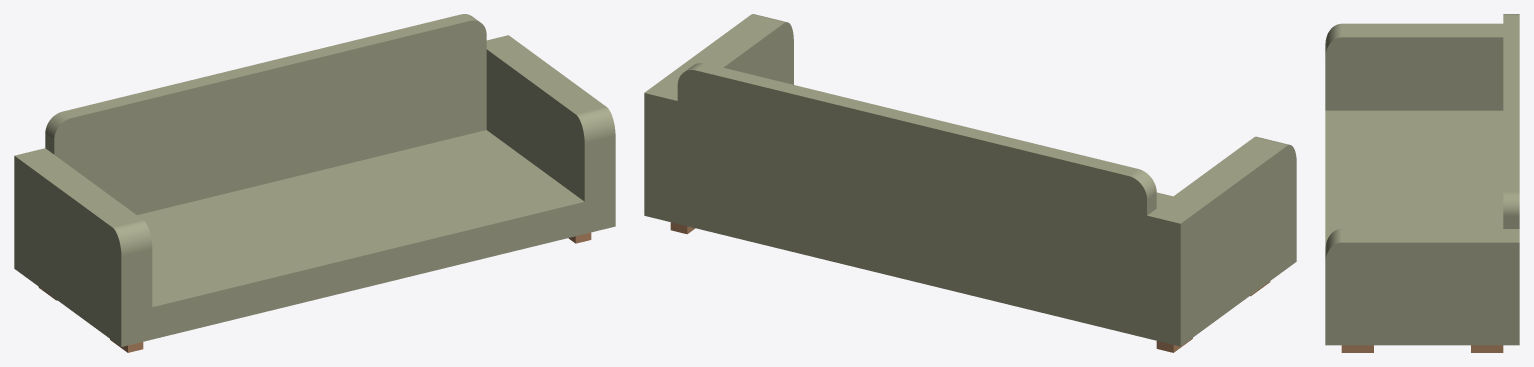
File: Couch.glb
3 renders of one model, left to right at view 1: azimuth 30°, elevation 25°; view 2: azimuth 150°, elevation 25°; view 3: azimuth 270°, elevation 25°, orthographic. The views are drawn at different scales.
Parts seen in each view (by area): view 1: Couch-col; view 2: Couch-col; view 3: Couch-col.
Boxes of the visible parts, left/top/right/bottom form: Couch-col: left=14, top=14, right=615, bottom=352; Couch-col: left=644, top=14, right=1296, bottom=352; Couch-col: left=1325, top=14, right=1519, bottom=352.
Size of the model in its own units: 32 by 10 by 12.
